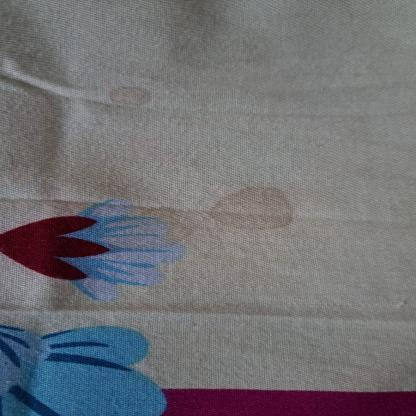spot: (189, 178, 315, 236), (130, 210, 219, 244), (103, 84, 170, 108)
